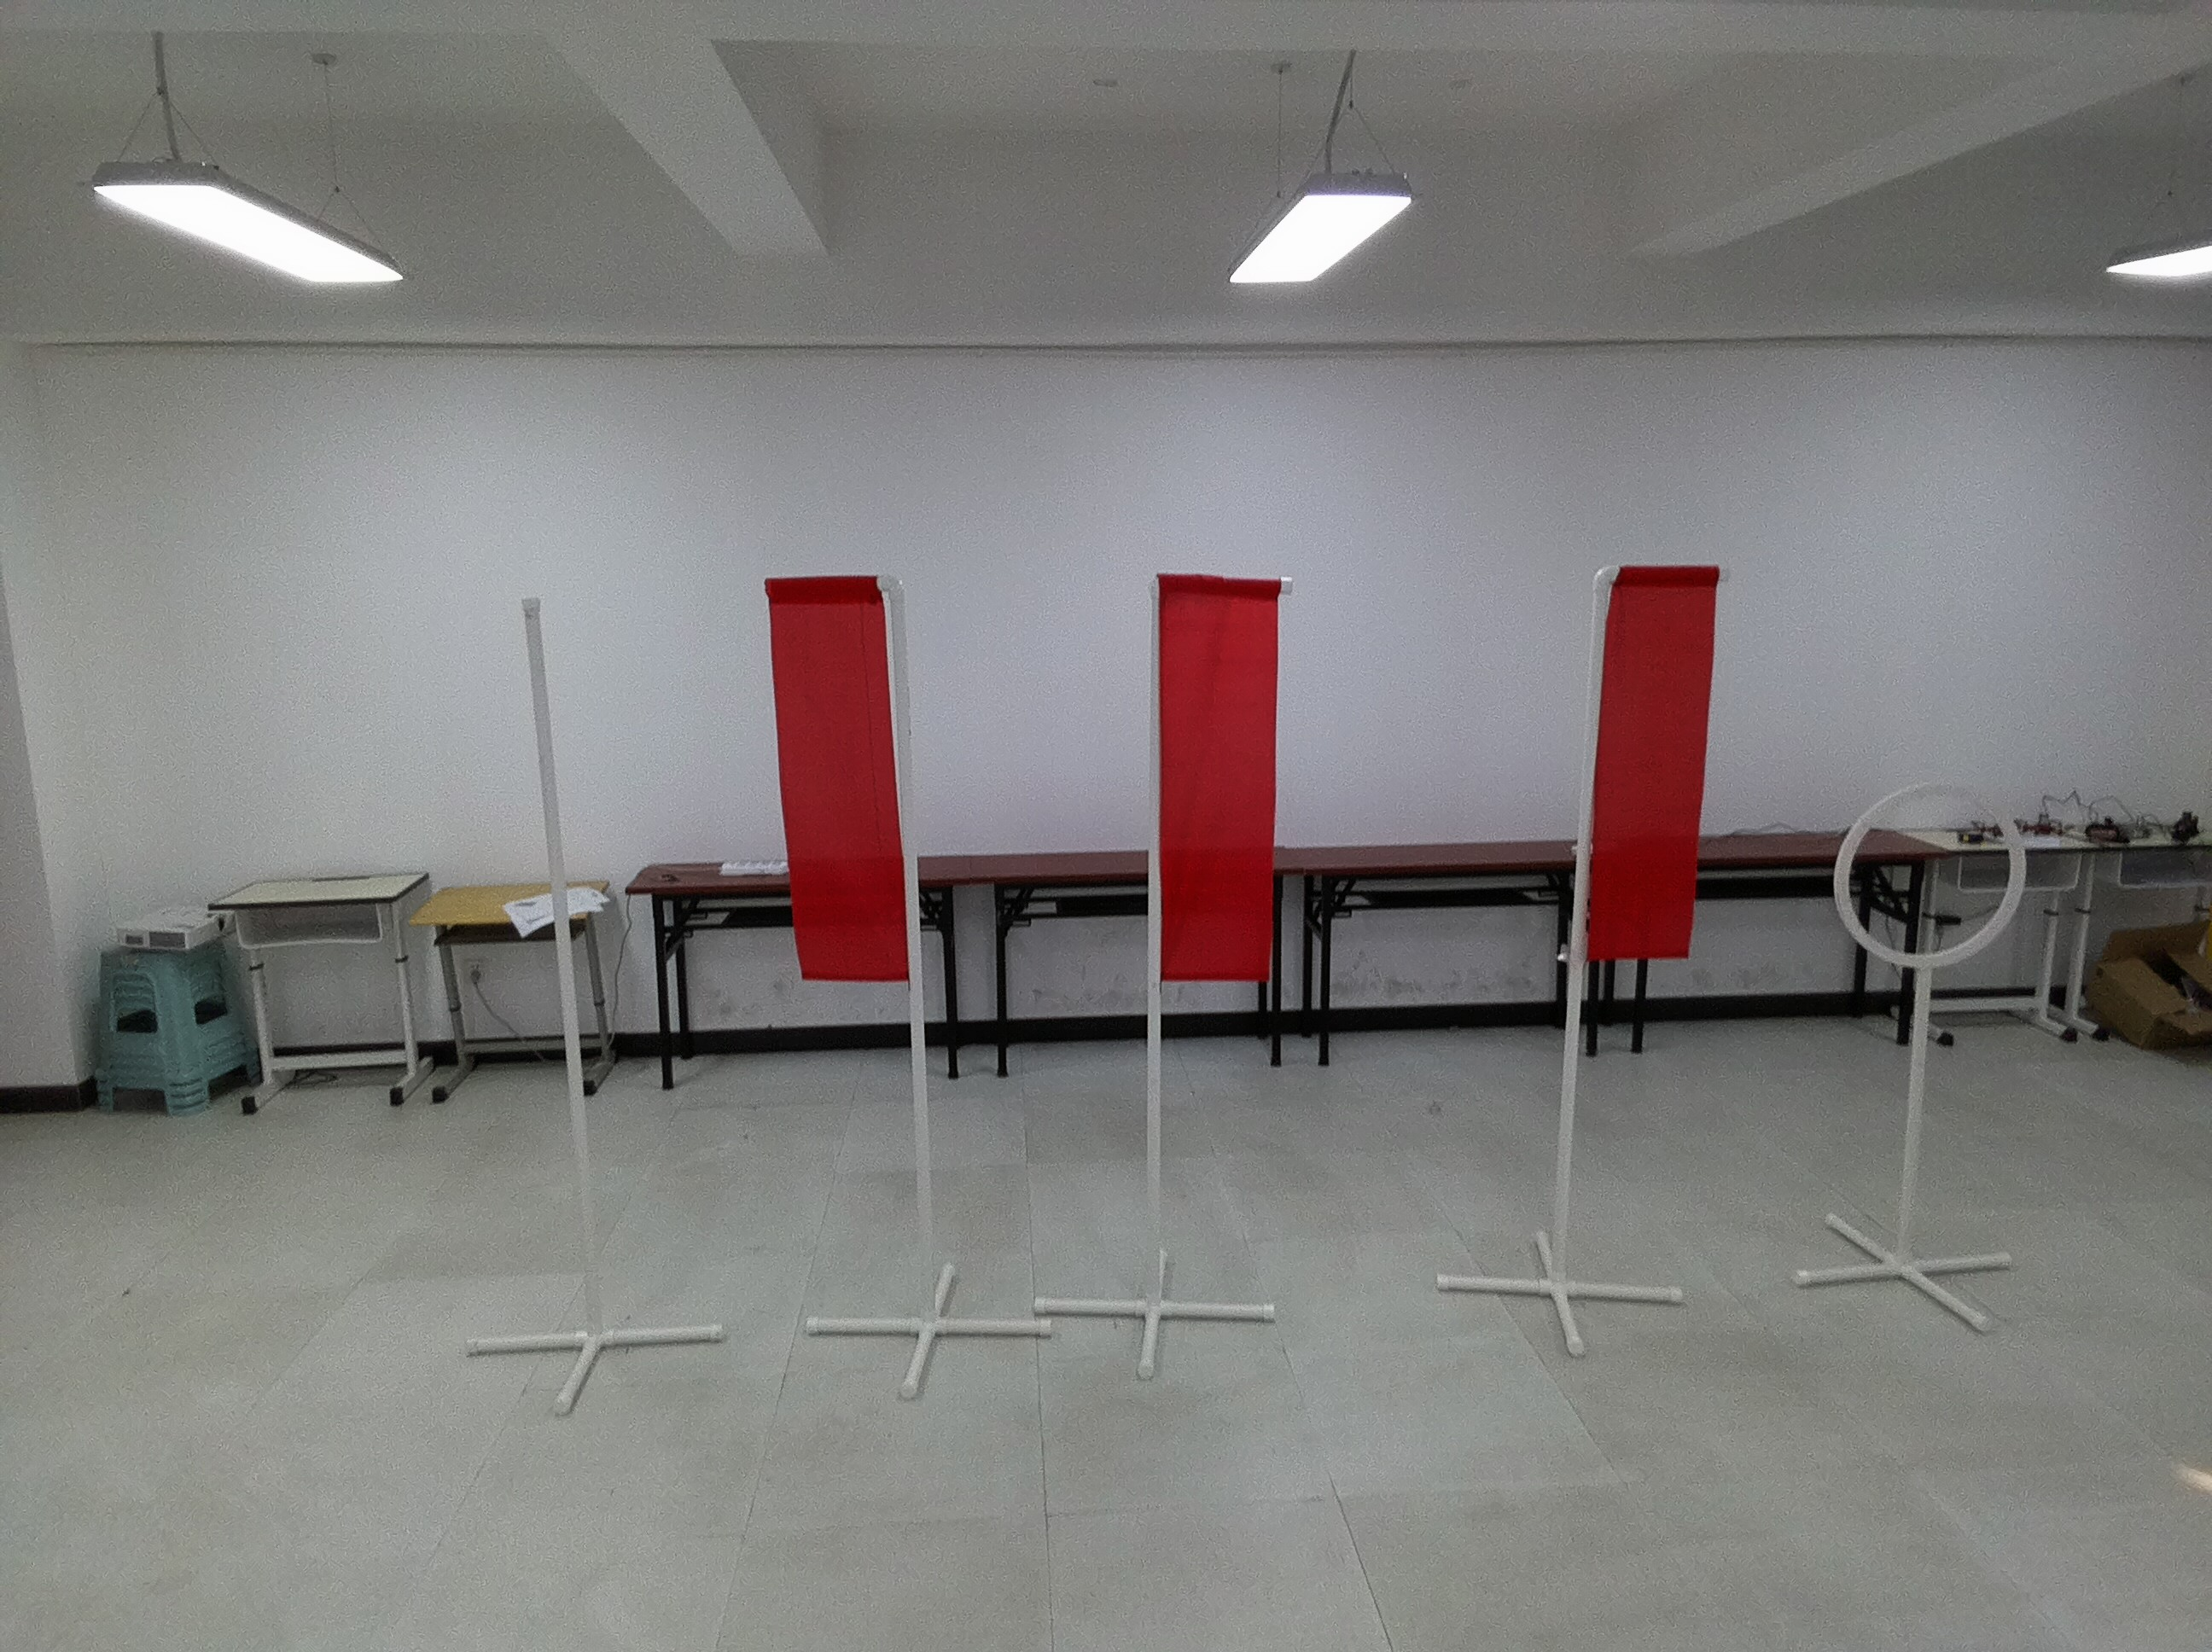gan: (514, 587, 604, 1209)
qi: (744, 569, 933, 998), (1572, 554, 1719, 1010), (1133, 559, 1279, 1013)
quan: (1823, 774, 2037, 1020)
